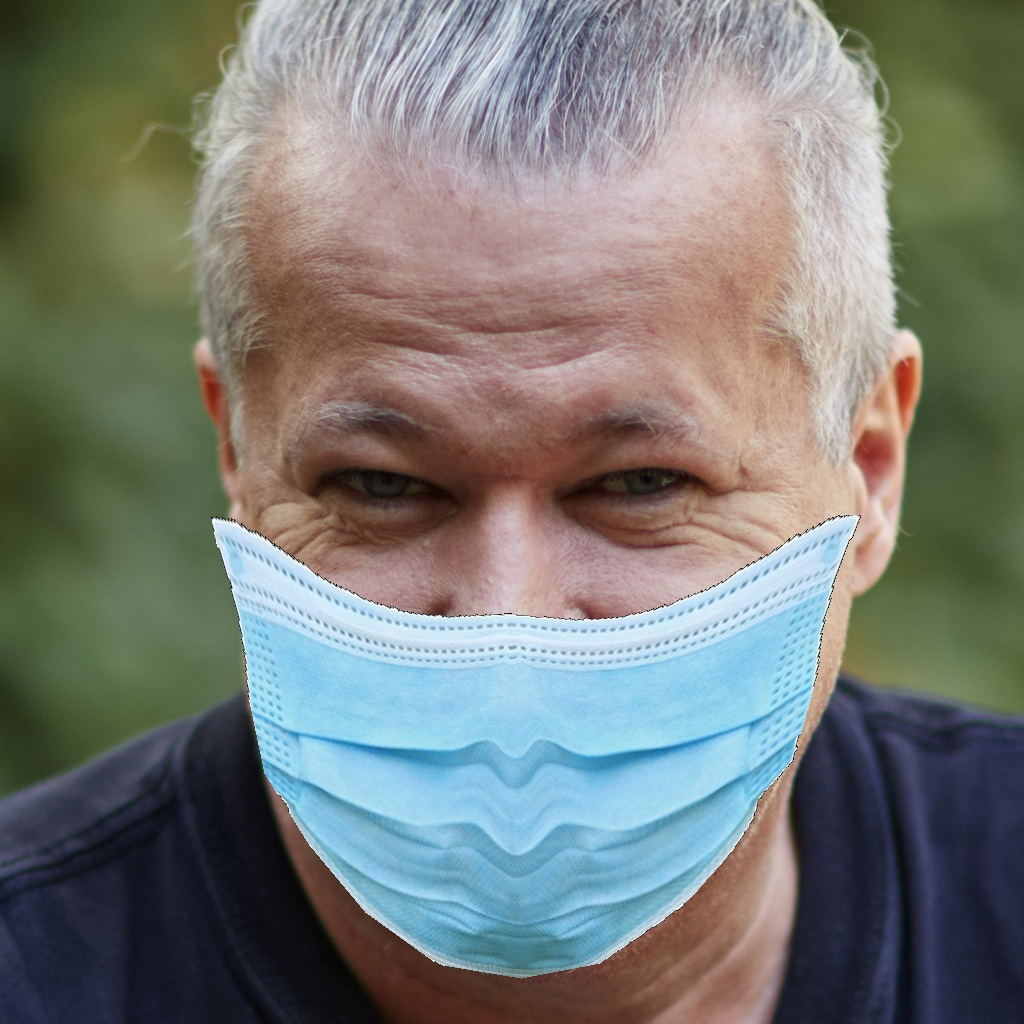Mask: (196, 346, 868, 982)
